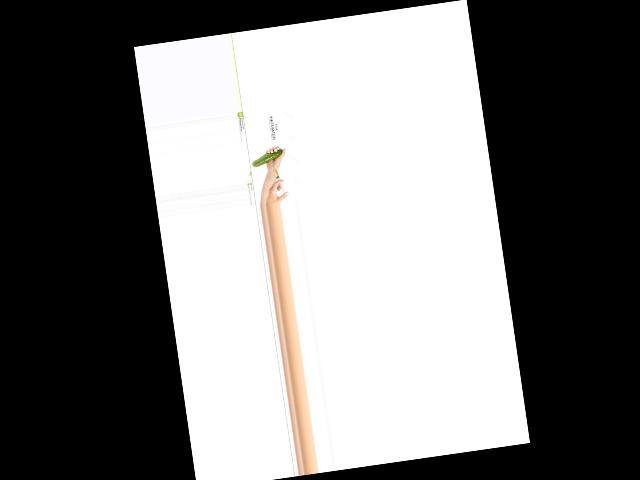cucumber: (250, 148, 284, 167)
